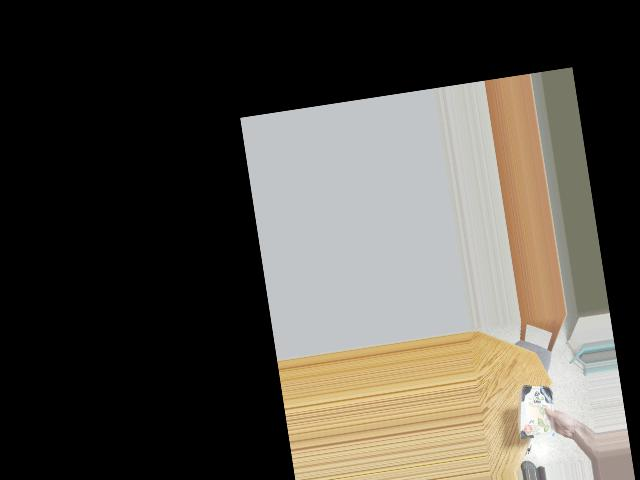cheese: (515, 384, 564, 433)
